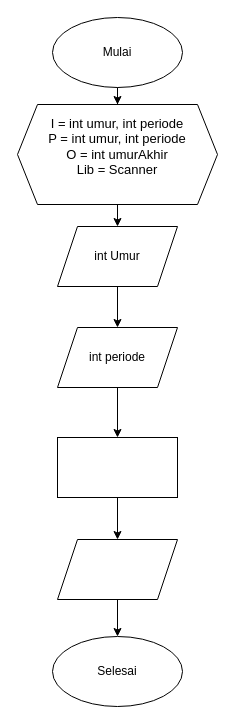
This 235x724 diagram has some shape labels left out. Here are the shapes that lost their labels. From the top down, the centre of each, then its label:
the point at 117,467: umurAkhir = int umur += int periode
the point at 117,569: SOP umurAkhir
